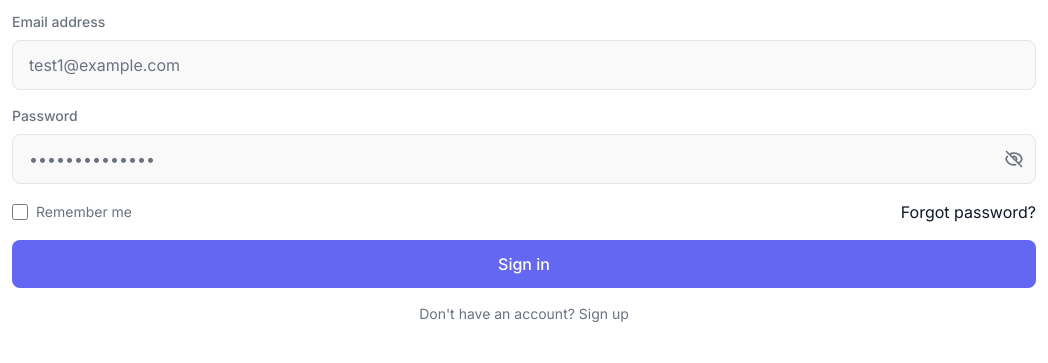
LoginForm › should show a password required error when the form is submitted without a password
Type "test@example.com" into the field labelled "Email address" at (524, 65), box [12,40,1036,90]
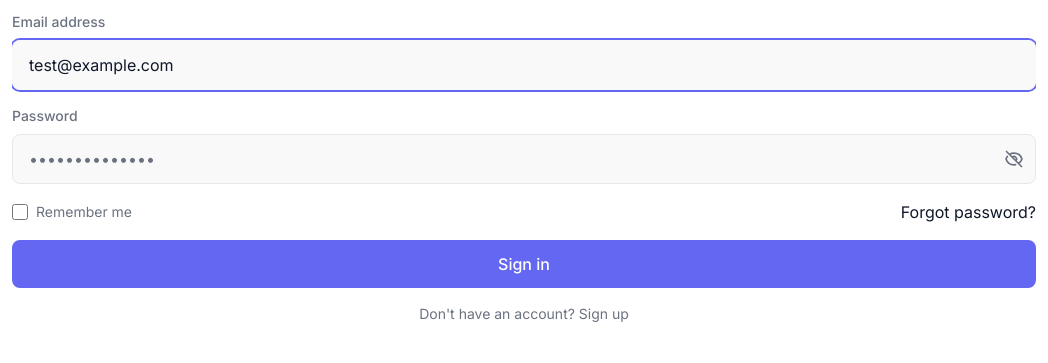
Click the button "Sign in" at (524, 264), box [12,240,1036,288]
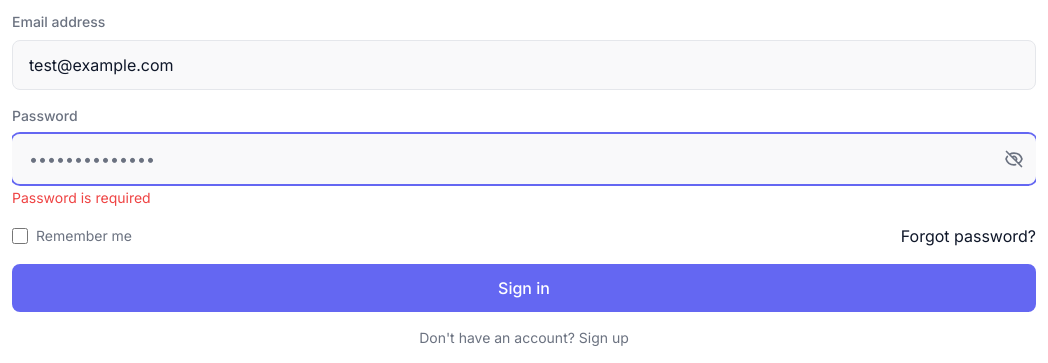
expect the text "Password is required" is shown: met, box [12,189,151,206]
